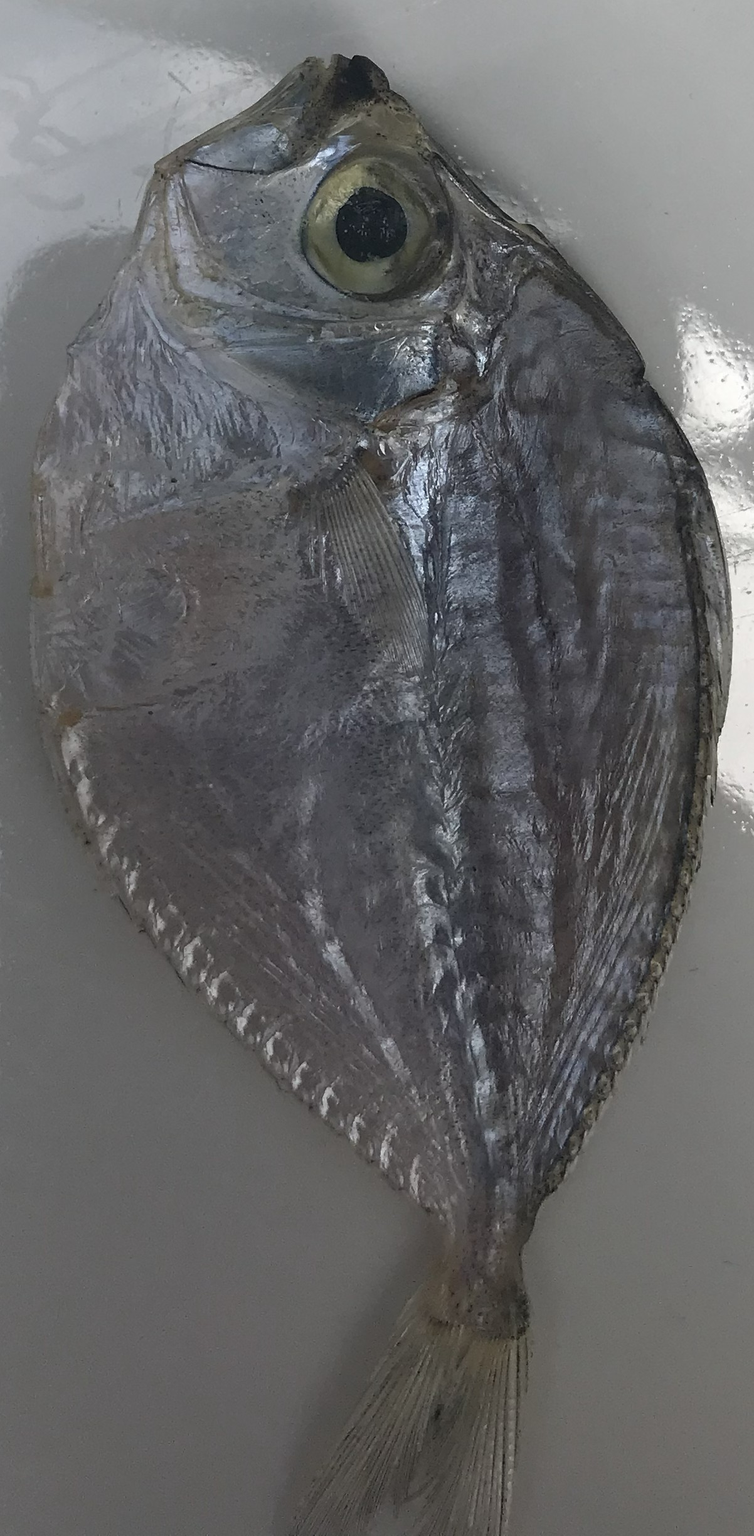sap_sap_dried: (0, 0, 754, 1070), (358, 385, 475, 581), (374, 286, 501, 386), (253, 128, 362, 225), (38, 458, 164, 527)
